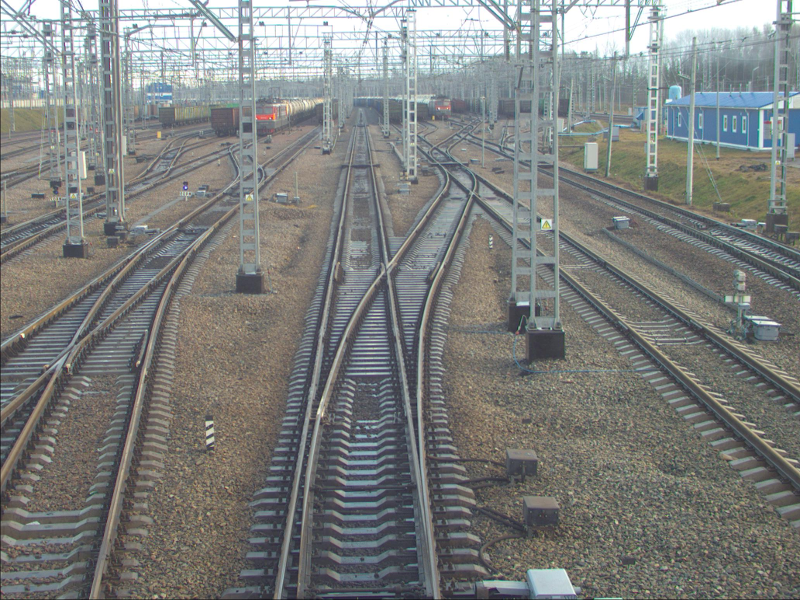left: (274, 463, 452, 595)
